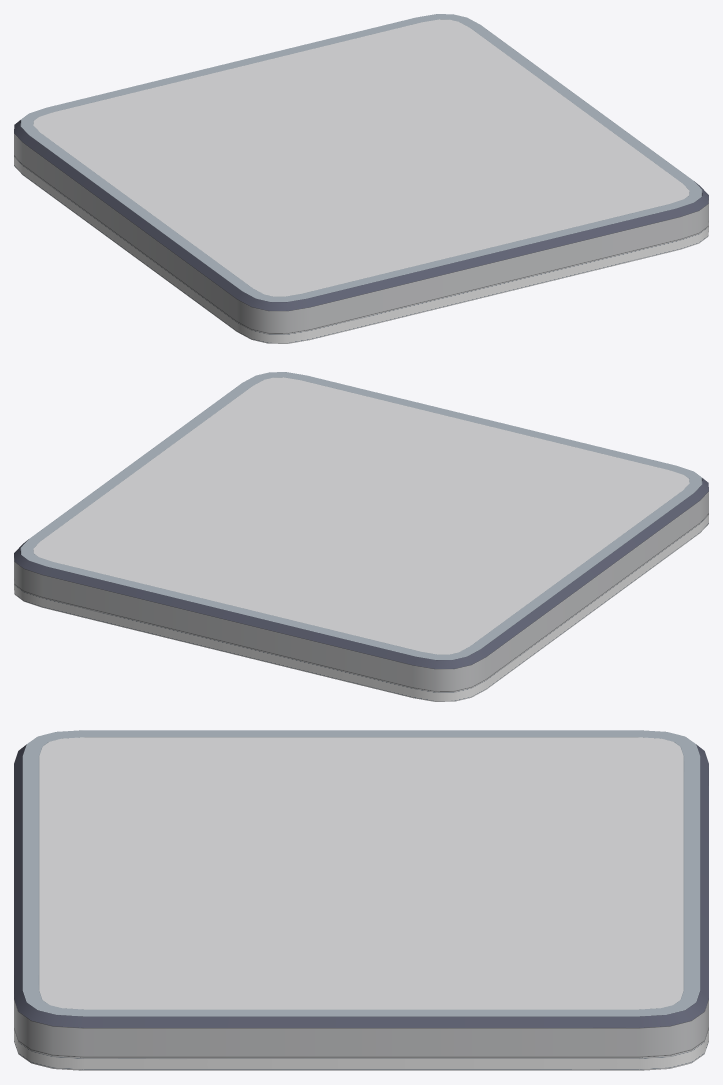
File: Podium_01.FBX
3 renders of one model, top to bottom at view 1: azimuth 30°, elevation 25°; view 2: azimuth 150°, elevation 25°; view 3: azimuth 270°, elevation 25°, orthographic. The views are drawn at different scales.
Visible parts, largest first — view 1: Podium_01; view 2: Podium_01; view 3: Podium_01.
Boxes of the visible parts, bbox=[...] form: Podium_01: bbox=[14, 14, 708, 343]; Podium_01: bbox=[14, 372, 708, 701]; Podium_01: bbox=[14, 730, 708, 1070].
Size of the model in its own units: 4 by 0.321 by 4.
Materials: 1 (1 with a texture image).
